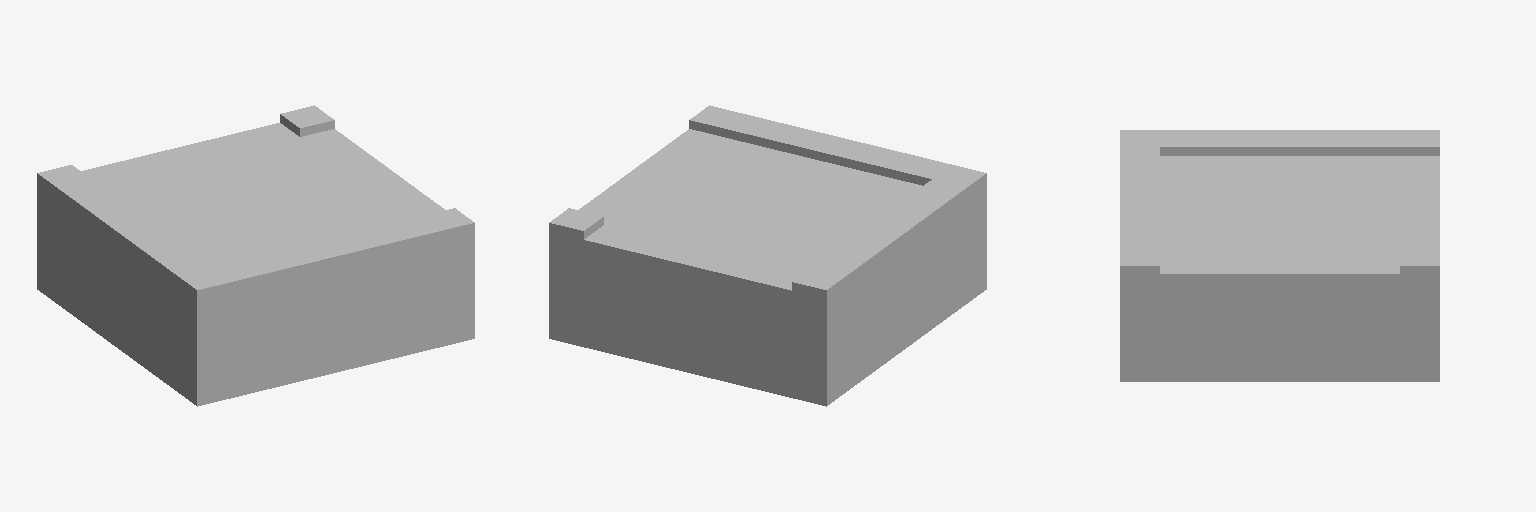
The model's file is tile_092.obj.
The picture shows the model from 3 angles: view 1: azimuth 30°, elevation 25°; view 2: azimuth 150°, elevation 25°; view 3: azimuth 270°, elevation 25°; orthographic projection.
Visible parts, largest first — view 1: tile_092; view 2: tile_092; view 3: tile_092.
Part boxes in pixels (left/top/right/bottom): tile_092: left=37, top=105, right=474, bottom=406; tile_092: left=549, top=105, right=986, bottom=406; tile_092: left=1120, top=130, right=1439, bottom=381.
Bounding box in the file's own units: 1 × 0.4 × 1.